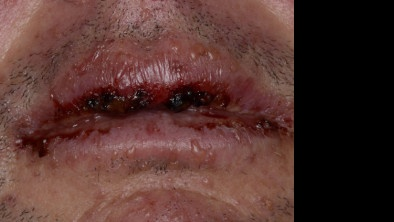SJS-TEN: (0, 29, 299, 177)
